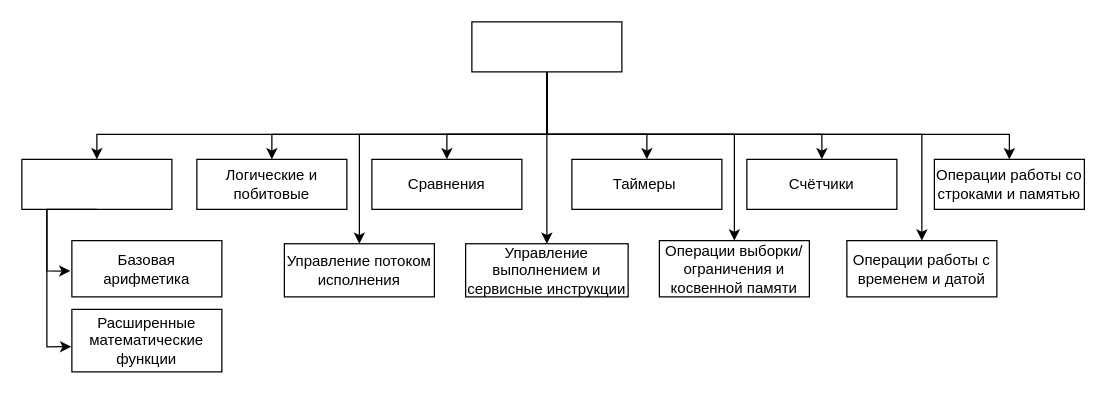
Image size: 1106x394. Some labels were removed from this diagram. Here are the shapes that lost their labels. From the top down, the box of each, then its label:
(471, 21, 622, 72): Байткодные команды
(21, 158, 172, 209): Арифметические и математические
